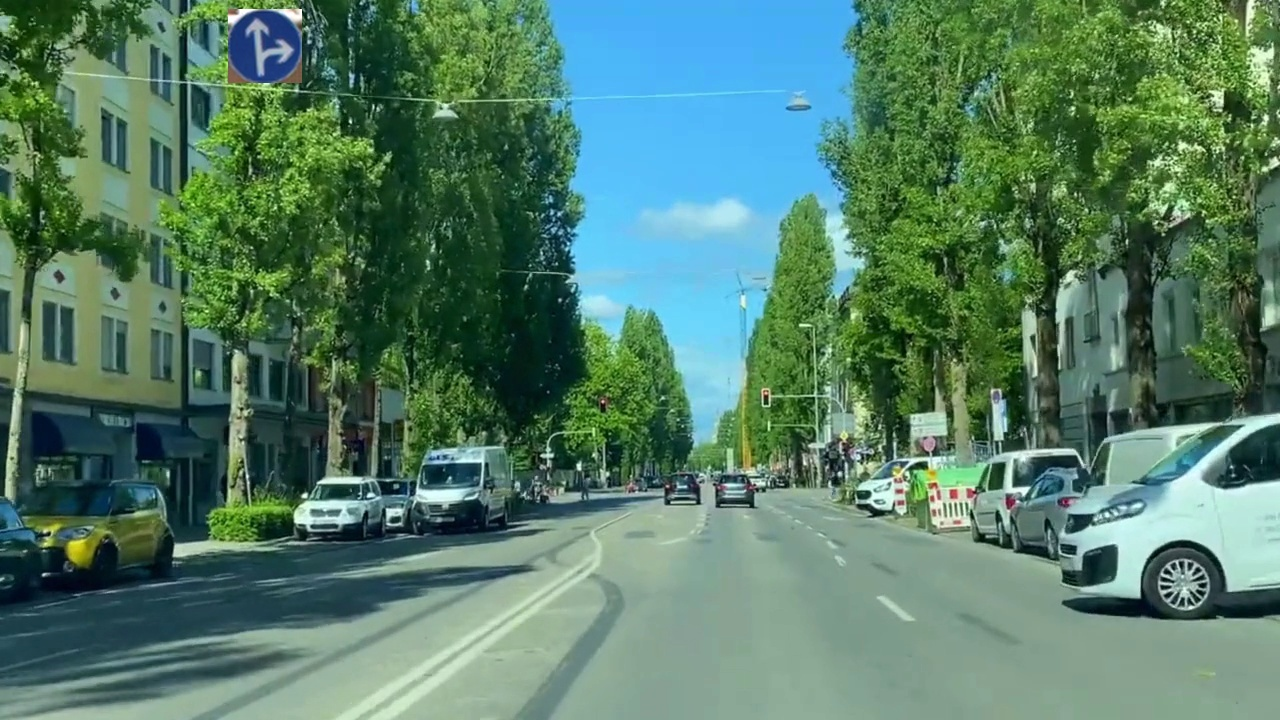Straight/right: (228, 9, 302, 83)
